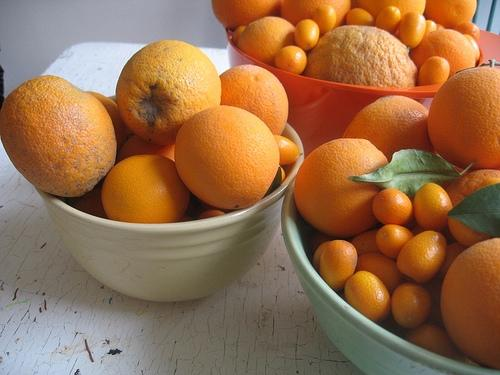orange: (2, 76, 117, 197), (115, 40, 222, 148), (174, 106, 280, 210), (295, 137, 390, 240), (428, 59, 500, 170), (440, 238, 500, 370), (302, 25, 418, 87), (342, 95, 438, 163), (100, 154, 191, 224), (219, 64, 289, 136), (410, 29, 476, 79), (237, 16, 296, 67), (396, 230, 448, 284), (86, 91, 126, 159), (353, 252, 403, 298), (280, 0, 352, 30), (446, 170, 500, 209), (212, 0, 282, 29), (413, 182, 453, 232), (320, 240, 358, 292), (390, 282, 432, 328), (405, 324, 458, 360), (117, 136, 175, 164), (372, 189, 414, 226), (424, 1, 478, 29), (375, 224, 415, 260), (358, 0, 426, 21), (67, 190, 110, 220), (438, 243, 470, 280), (398, 11, 426, 53), (350, 229, 384, 258), (418, 56, 450, 86), (274, 46, 307, 74), (273, 135, 303, 165), (294, 19, 320, 51), (312, 5, 336, 38), (375, 6, 401, 35), (312, 241, 332, 277), (452, 22, 481, 42), (424, 20, 436, 38)
